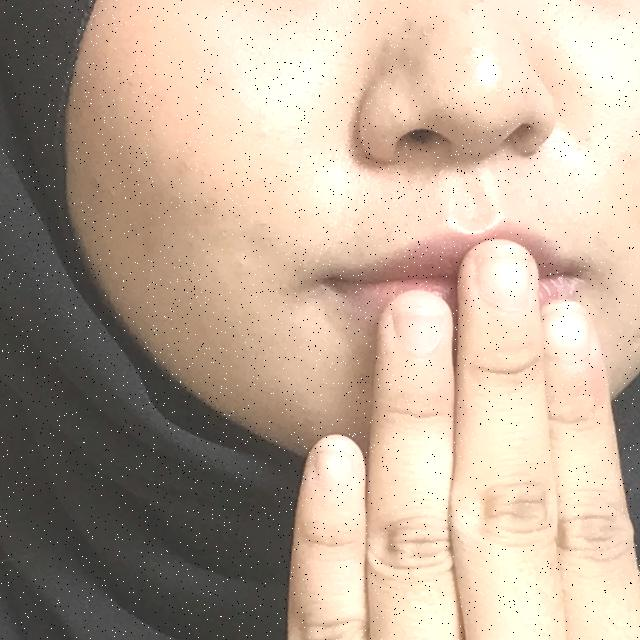ganteng: (150, 226, 640, 640)
